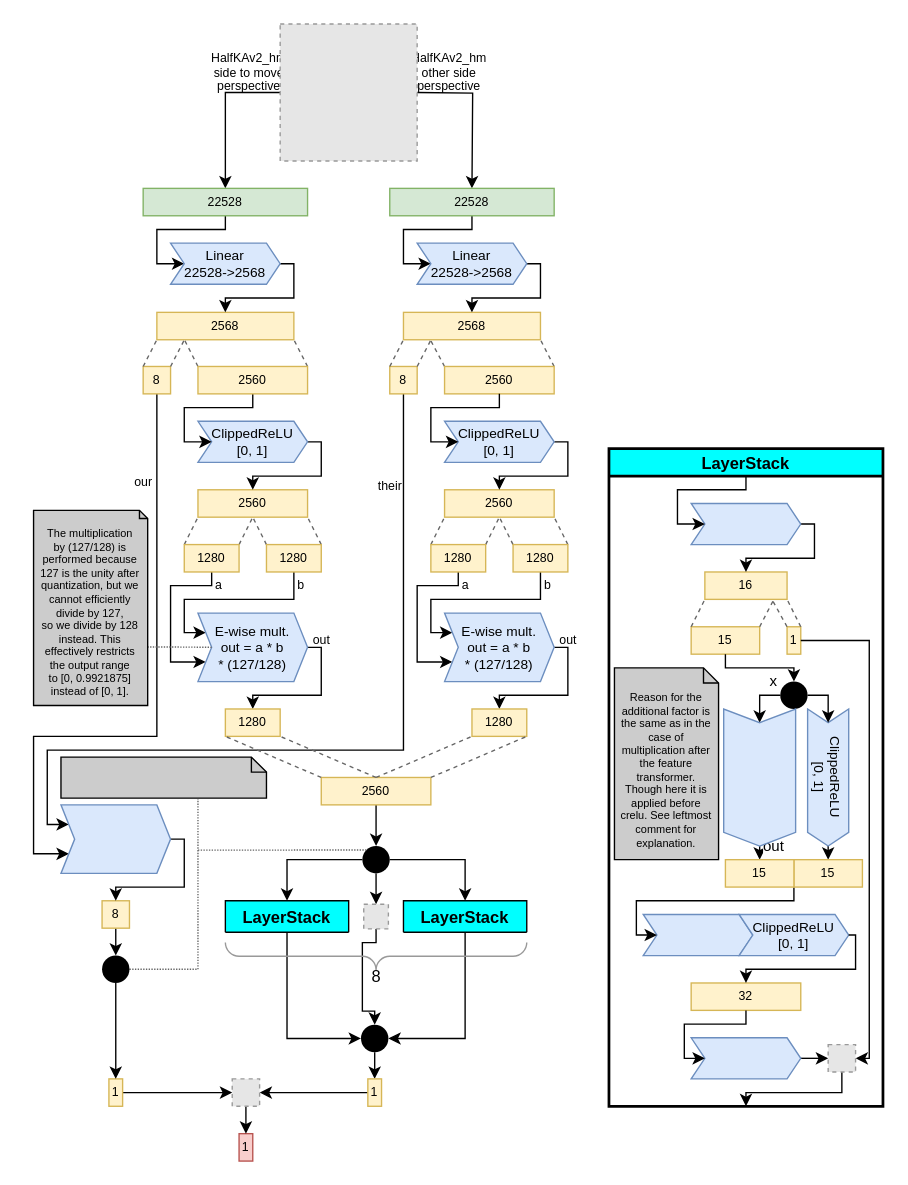
Some shapes in this 908 by 1185 pixel diagram are drawn without their labels. Grey dashed boxes stand in for pictures. The box of each missing label's shape, as (x1, y1, x2, y2) in pixels:
Average perspectives (our - their) / 2: (60, 804, 171, 873)
Choice based on (popcount(pos.pieces()) - 1) / 4: (60, 756, 266, 798)
Linear 2560->16: (690, 502, 801, 545)
Linear 30->32: (642, 913, 753, 956)
Linear 32->1: (690, 1036, 801, 1079)
SqrClippedReLU [0, 1] out = crelu( x*x*(127/128)): (722, 708, 796, 846)
